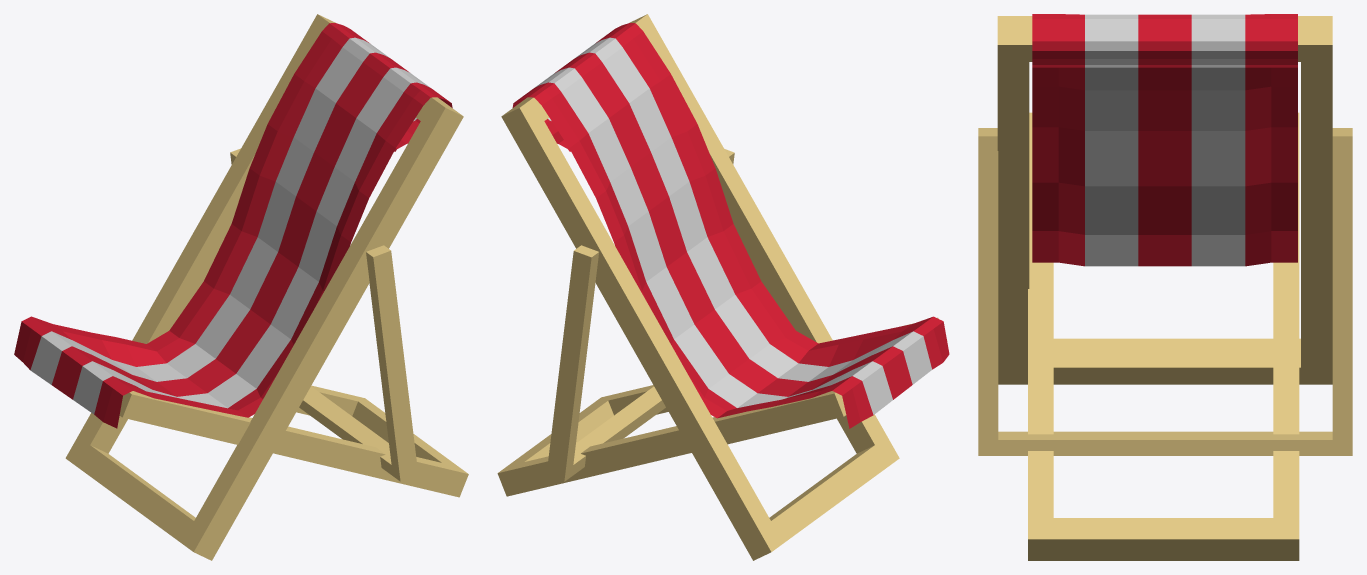
The model's file is BeachChair_3.fbx.
The picture shows the model from 3 angles, left to right: view 1: azimuth 30°, elevation 25°; view 2: azimuth 150°, elevation 25°; view 3: azimuth 270°, elevation 25°; orthographic projection. The views are drawn at different scales.
Parts seen in each view (by area): view 1: Cloth, Frame, Frame.001, Frame.002; view 2: Cloth, Frame, Frame.001, Frame.002; view 3: Cloth, Frame, Frame.001, Frame.002.
Part boxes in pixels (x1,y1,x2,y2): Cloth: (14,23,452,428); Frame: (65,14,463,560); Frame.001: (119,385,468,497); Frame.002: (230,148,418,481); Cloth: (512,23,949,428); Frame: (501,14,899,560); Frame.001: (497,317,947,496); Frame.002: (546,149,734,481); Cloth: (1032,14,1297,266); Frame: (997,16,1332,384); Frame.001: (1028,112,1299,560); Frame.002: (978,128,1352,455).
Bounding box in the file's own units: 96.01 × 105 × 66.99.
